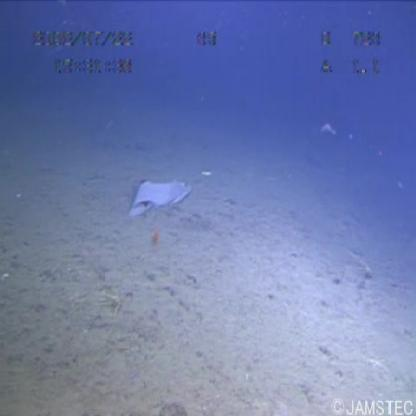Rác: (111, 158, 214, 226)
